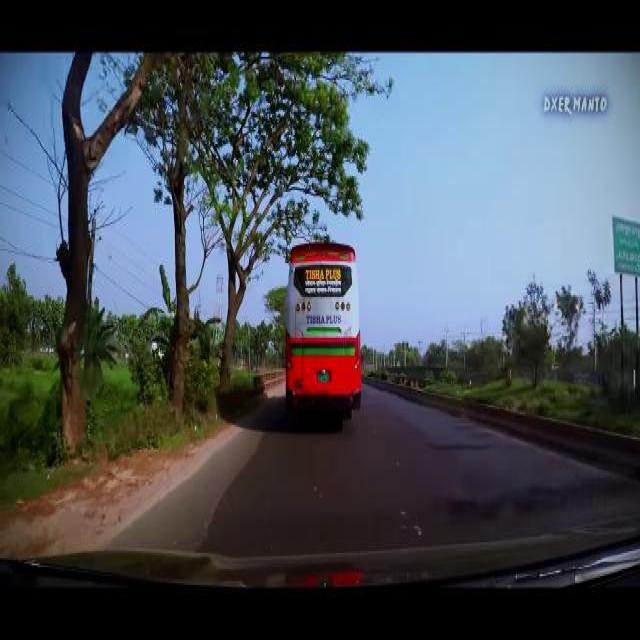Truck: (284, 241, 361, 413)
